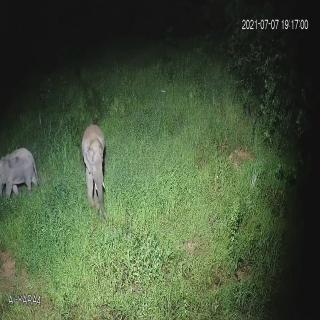Elephant: (80, 115, 112, 230), (0, 143, 40, 202)
